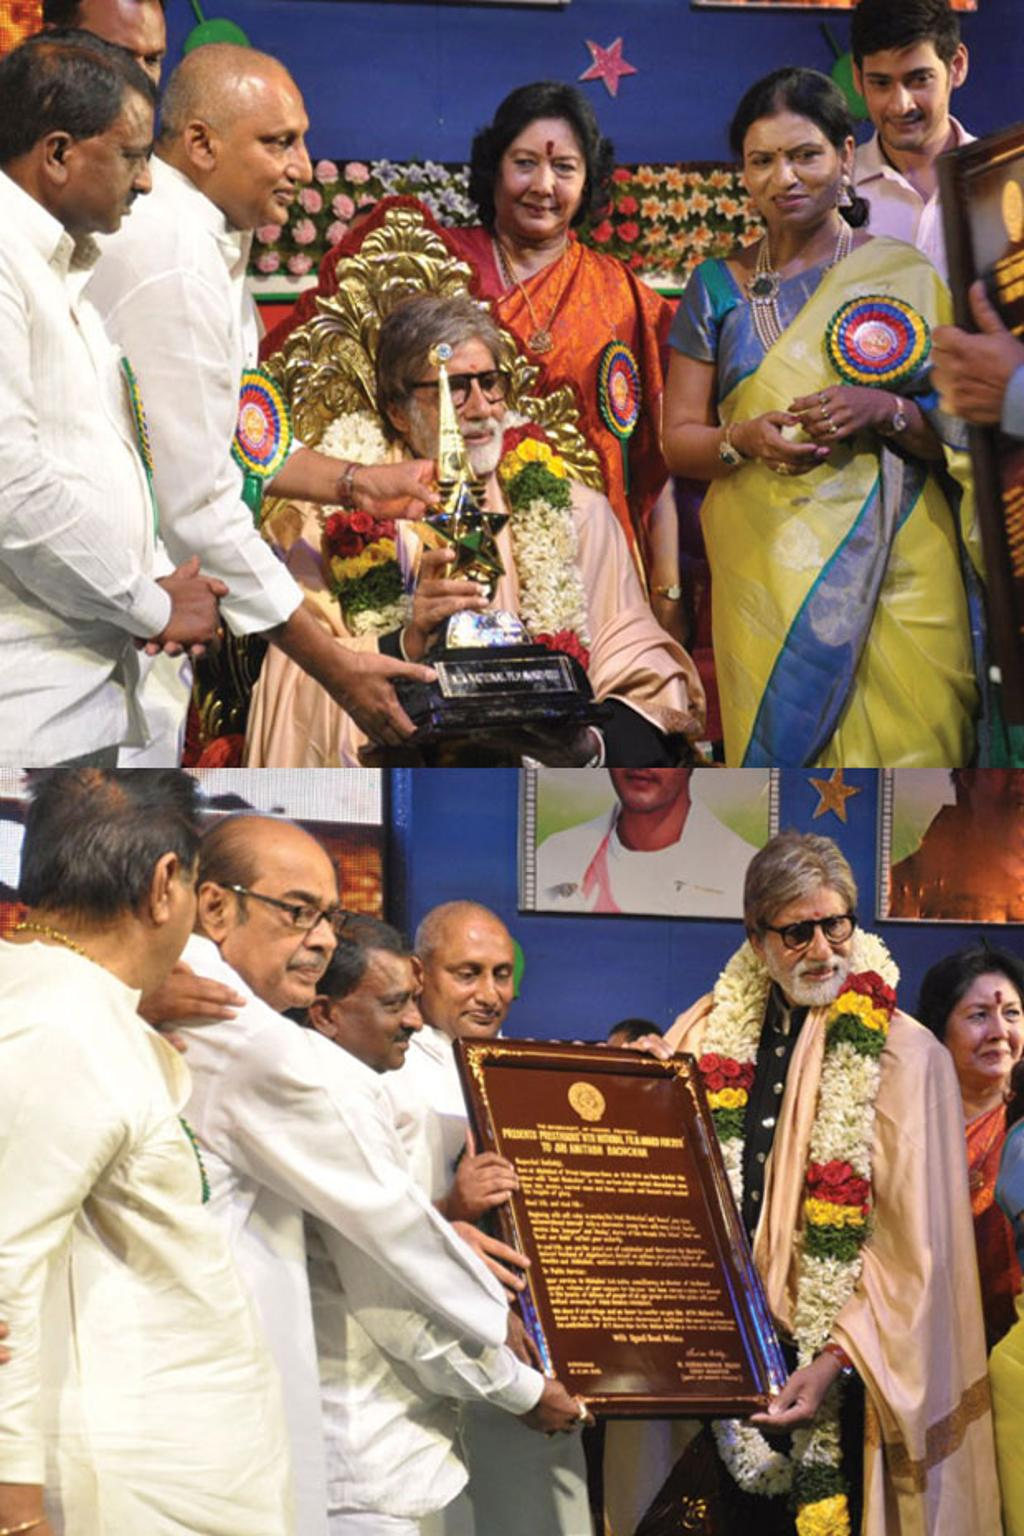face: (231, 823, 339, 1003), (210, 54, 312, 225), (402, 336, 504, 474), (420, 901, 513, 1039), (72, 12, 165, 135), (78, 69, 150, 225), (763, 883, 853, 1006), (498, 108, 585, 231), (745, 123, 841, 234), (859, 30, 952, 141), (339, 952, 423, 1069), (934, 976, 1024, 1072)
